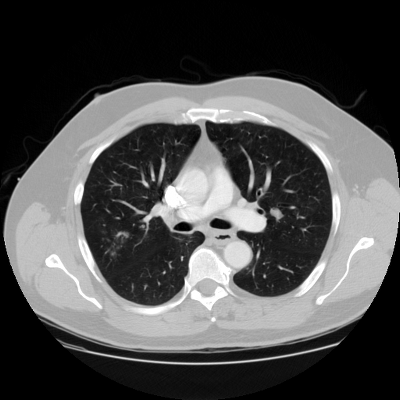nodule: (271, 208, 281, 218)
